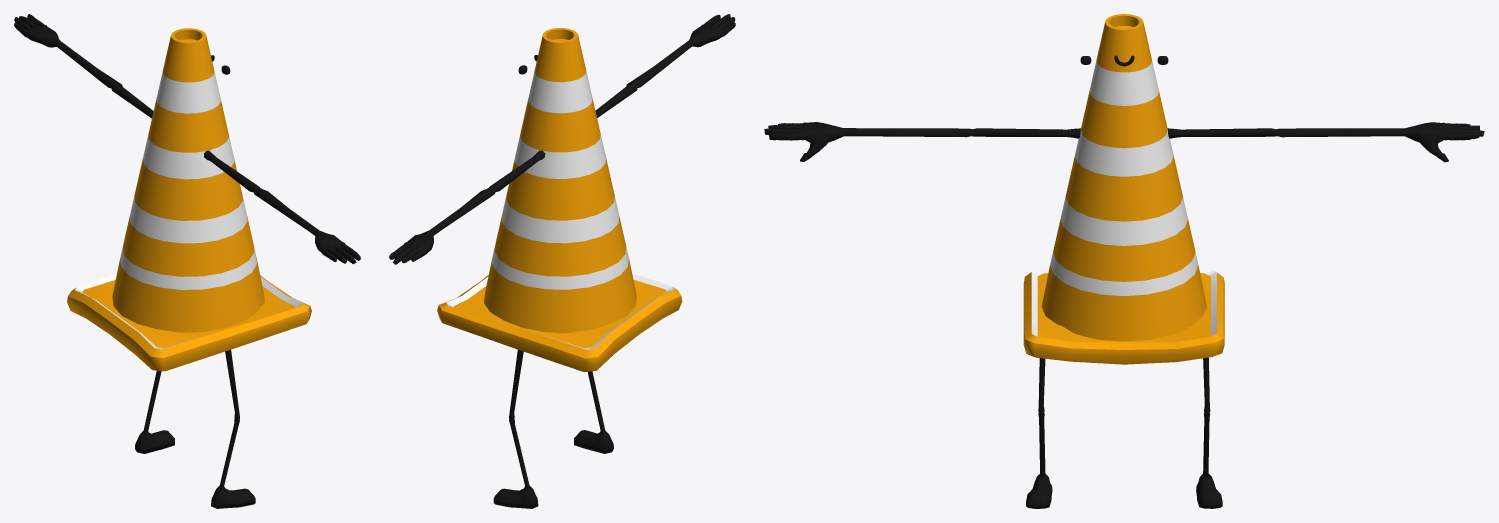
The model's file is Traffic Cone Character.glb.
3 renders of one model, left to right at view 1: azimuth 30°, elevation 25°; view 2: azimuth 150°, elevation 25°; view 3: azimuth 270°, elevation 25°, orthographic. The views are drawn at different scales.
Visible parts, largest first — view 1: _100Avatars_169_CoolCone; view 2: _100Avatars_169_CoolCone; view 3: _100Avatars_169_CoolCone.
Boxes of the visible parts, x1,y1,x2,y2 form: _100Avatars_169_CoolCone: (14, 14, 360, 508); _100Avatars_169_CoolCone: (389, 14, 735, 508); _100Avatars_169_CoolCone: (764, 14, 1484, 508).
Bounding box in the file's own units: 1.82 × 4.72 × 6.5.
1 material, 1 textured.
